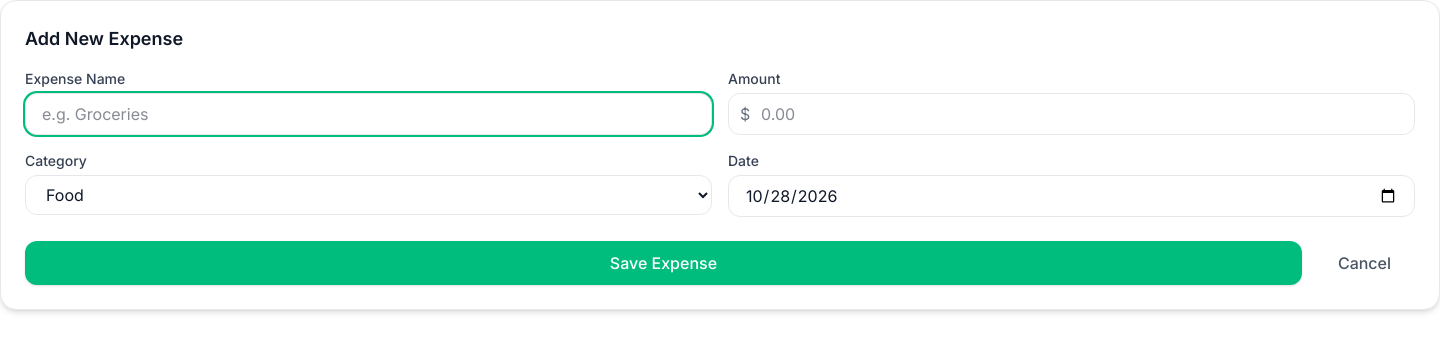
Test case: ExpenseForm Validation › displays Zod validation errors on empty submission
# Form initializes with empty name and amount, date defaults to today
Click the button "Save Expense".
click(663, 263)  # box 25,241 -> 1302,285
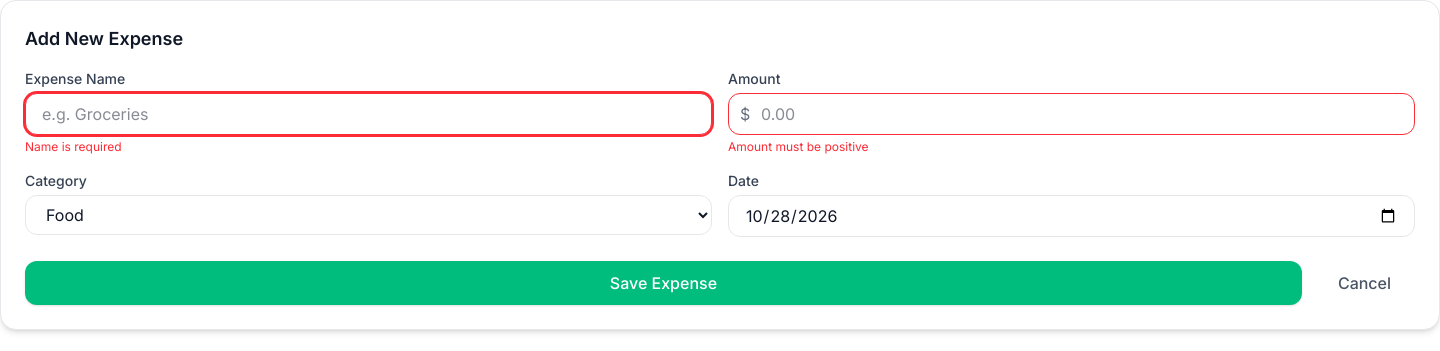
Now the text "Name is required" is shown, box 25,139 -> 122,154
Now the text "Amount must be positive" is shown, box 728,139 -> 869,154
